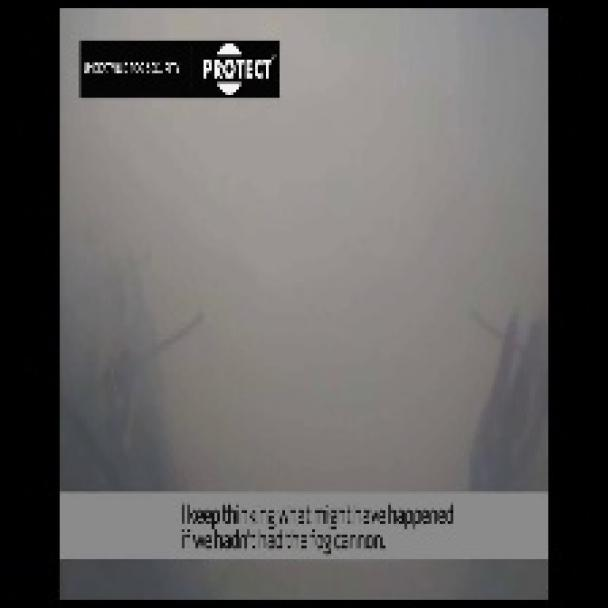smoke: (63, 8, 542, 490)
